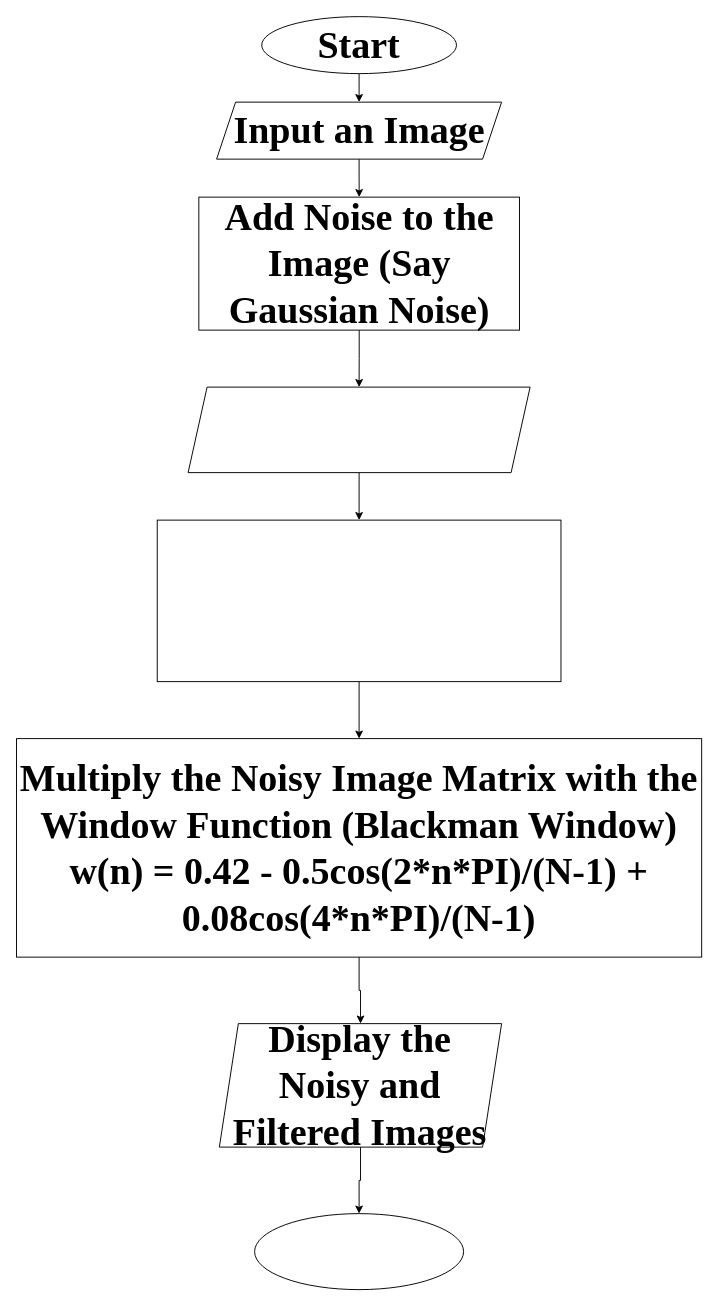
Image size: 719x1306. Some labels were removed from this diagram. The centre of each missing label's shape, as x and y in pixels:
"Define the Filter Coefficients (h0,h1,....,h50)" belongs at point 358,600.
"End" belongs at point 359,1251.
"Select Filter Length (N=51)" belongs at point 358,429.
